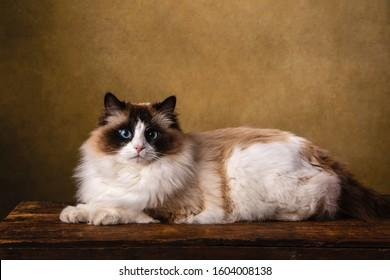ragdoll: (89, 79, 189, 174)
